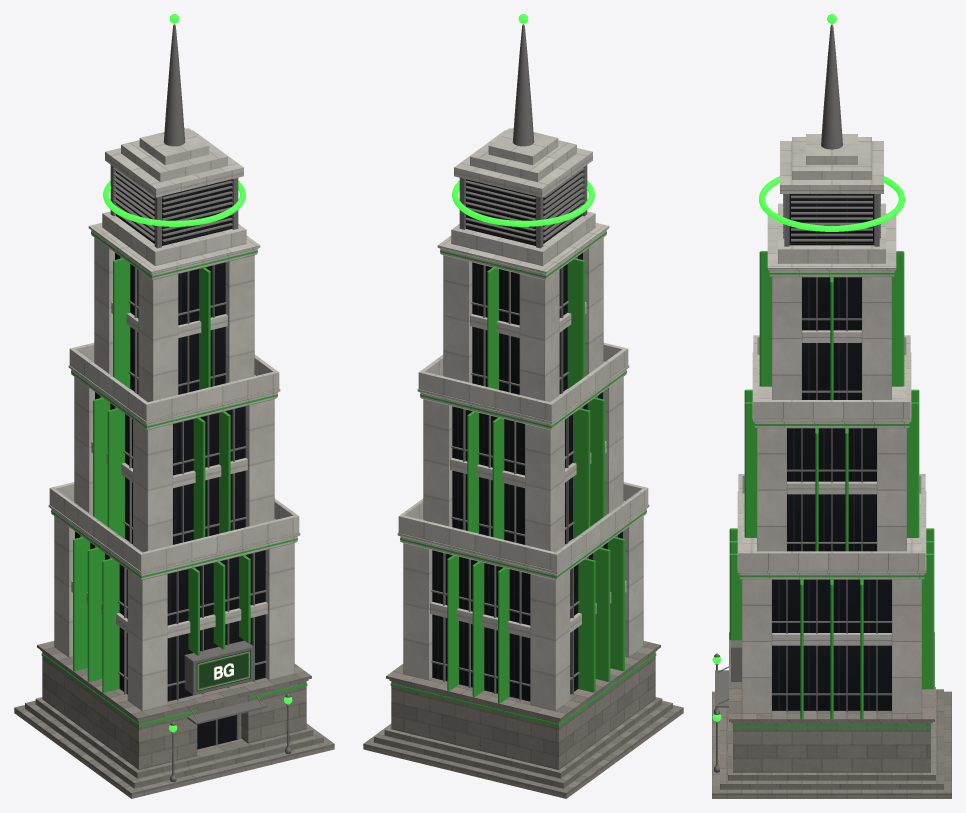
The model's file is s05-biopharma-go.glb.
The picture shows the model from 3 angles, left to right: view 1: azimuth 30°, elevation 25°; view 2: azimuth 150°, elevation 25°; view 3: azimuth 270°, elevation 25°; orthographic projection. The views are drawn at different scales.
Parts seen in each view (by area): view 1: Landmark · BioPharma.Go (Series 5); view 2: Landmark · BioPharma.Go (Series 5); view 3: Landmark · BioPharma.Go (Series 5).
Part boxes in pixels (x1,y1,x2,y2): Landmark · BioPharma.Go (Series 5): (14,14,334,798); Landmark · BioPharma.Go (Series 5): (363,14,683,798); Landmark · BioPharma.Go (Series 5): (712,14,951,798).
Bounding box in the file's own units: 12 × 40.5 × 12.
7 materials, 4 textured.
